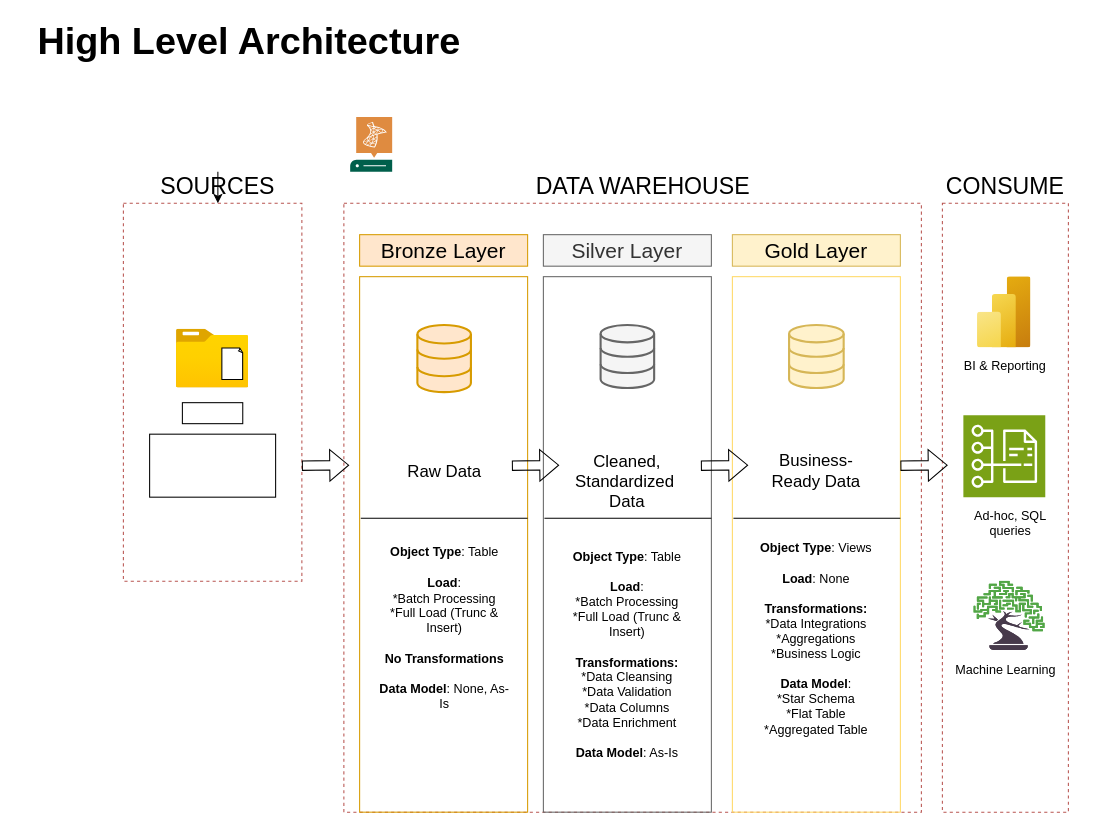
Image size: 1117x831. Some labels were removed from this diagram. Here are the shapes that lost their labels. From the top down, the centre of each, then its label:
At [212,413]: "ChatGPT".
At [212,465]: "Object Type : CSV Files Interface : Files".
